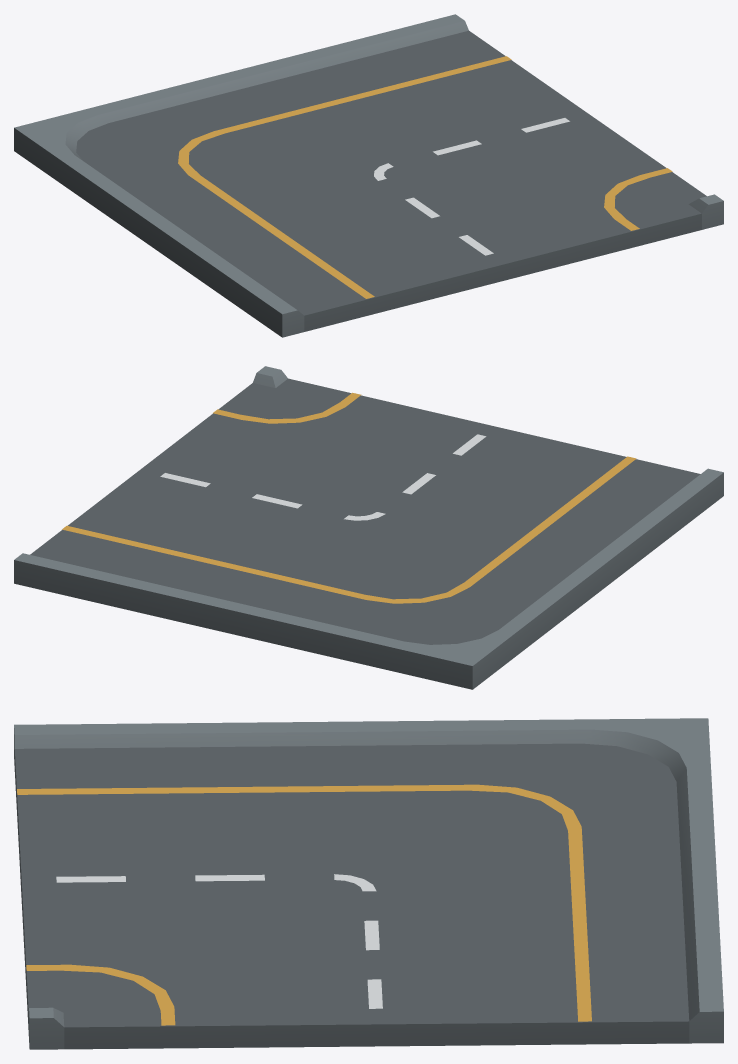
File: roadcorner.001_lev3.glb
3 renders of one model, top to bottom at view 1: azimuth 30°, elevation 25°; view 2: azimuth 150°, elevation 25°; view 3: azimuth 270°, elevation 25°, orthographic. The views are drawn at different scales.
Parts seen in each view (by area): view 1: road_corner.001; view 2: road_corner.001; view 3: road_corner.001.
Boxes of the visible parts, x1,y1,x2,y2 form: road_corner.001: (14,14,723,337); road_corner.001: (14,366,723,689); road_corner.001: (14,718,723,1049).
Size of the model in its own units: 5.67 by 0.2776 by 5.67.
1 material, 1 textured.
